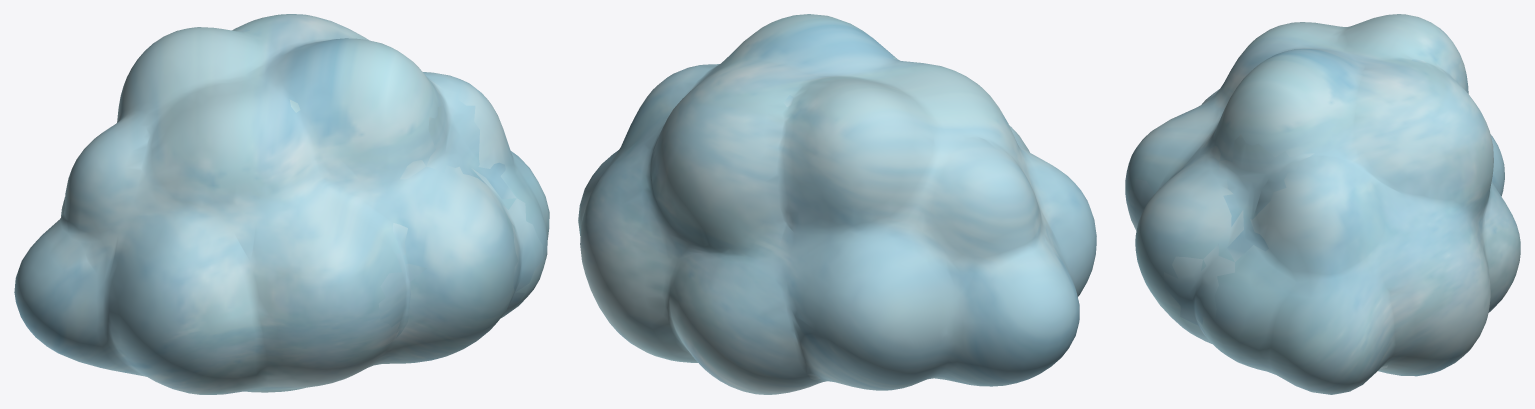
Rendered from cloud.obj.
The picture shows the model from 3 angles, left to right: view 1: azimuth 30°, elevation 25°; view 2: azimuth 150°, elevation 25°; view 3: azimuth 270°, elevation 25°; orthographic projection. The views are drawn at different scales.
Visible parts, largest first — view 1: Cloud.010; view 2: Cloud.010; view 3: Cloud.010.
Part boxes in pixels (left/top/right/bottom): Cloud.010: left=14, top=14, right=549, bottom=394; Cloud.010: left=578, top=14, right=1096, bottom=394; Cloud.010: left=1125, top=14, right=1520, bottom=394.
Size of the model in its own units: 0.3962 by 0.2389 by 0.2971.
Materials: 1 (1 with a texture image).
